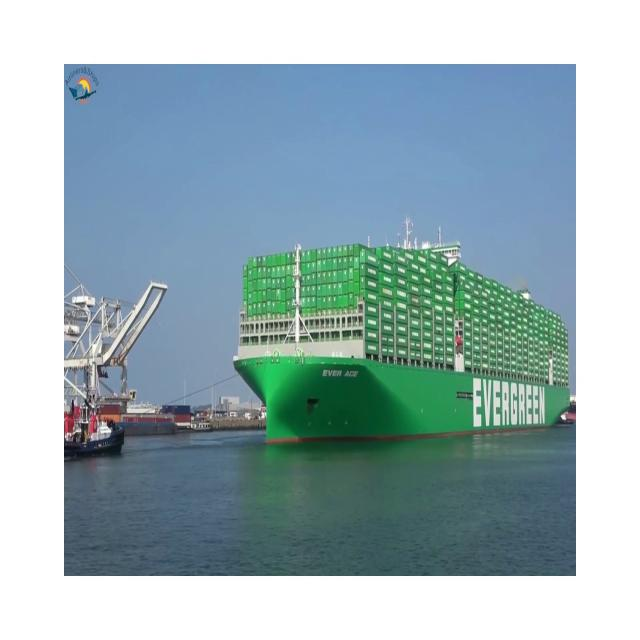OCR: (469, 368, 554, 436), (317, 361, 363, 388)
